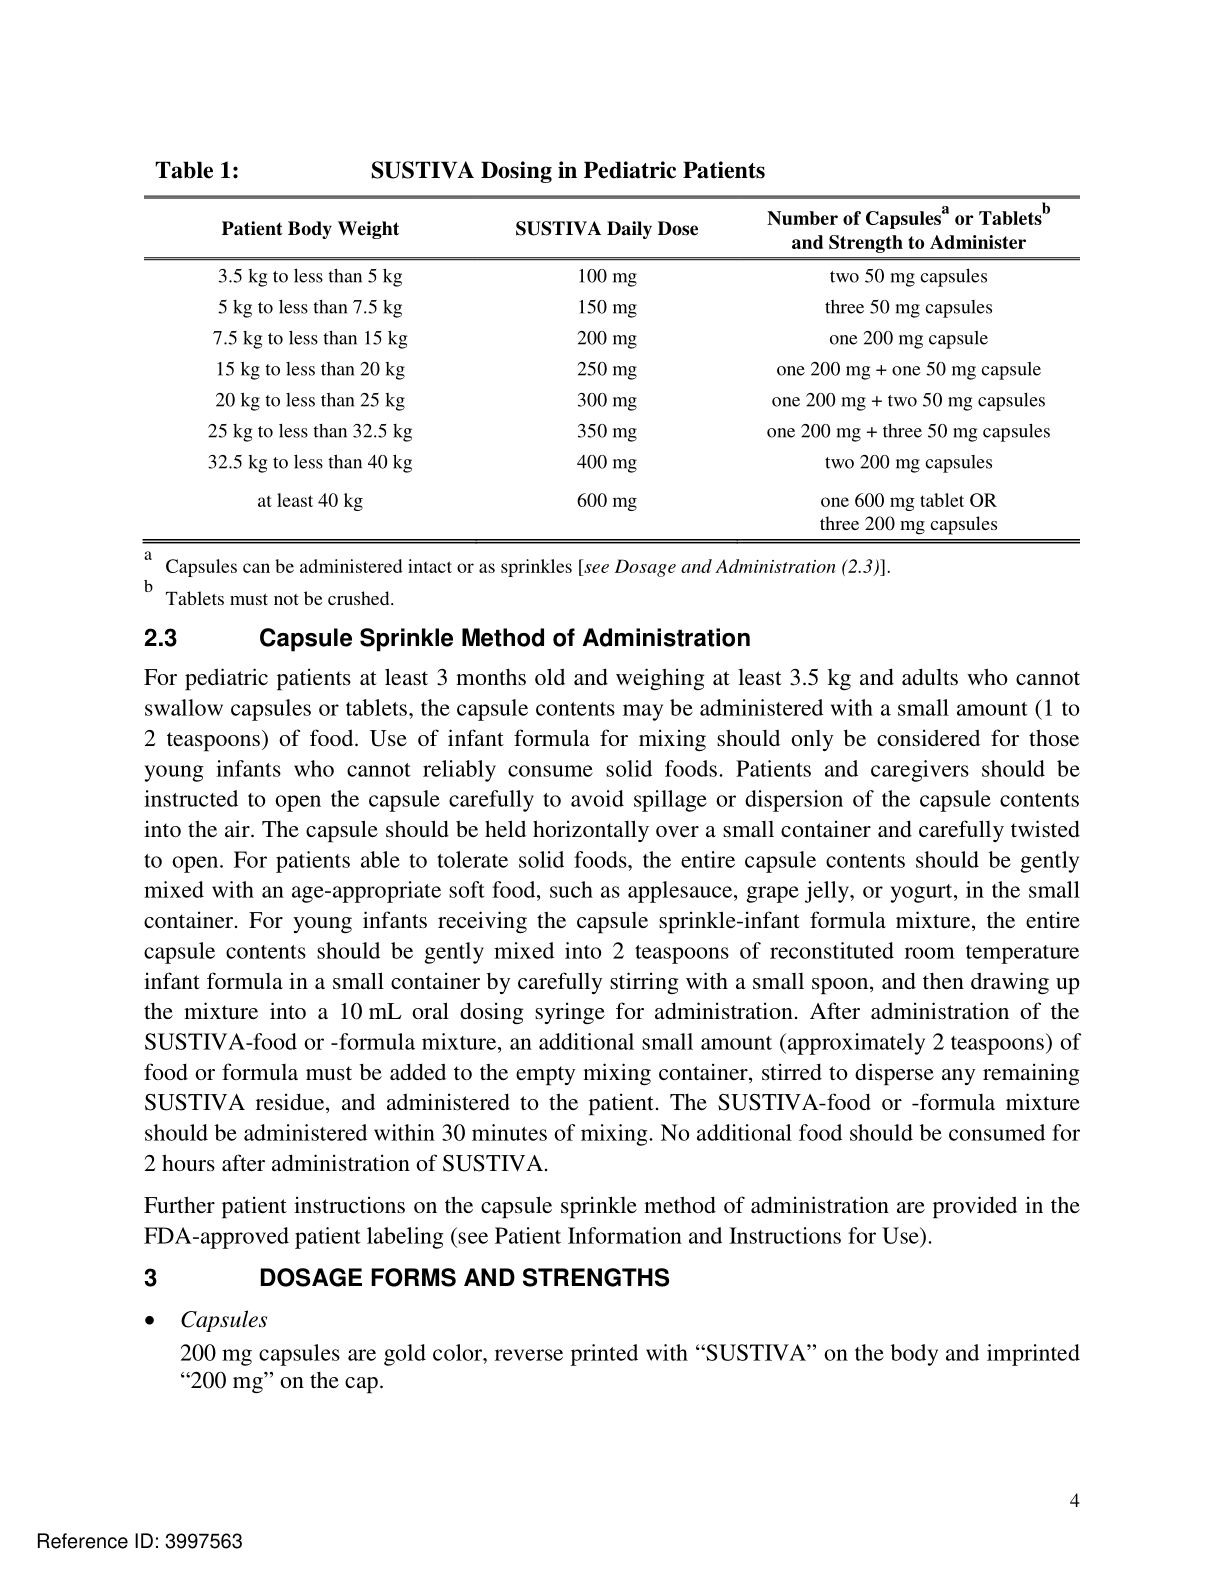partial_lined: (140, 194, 1083, 544)
